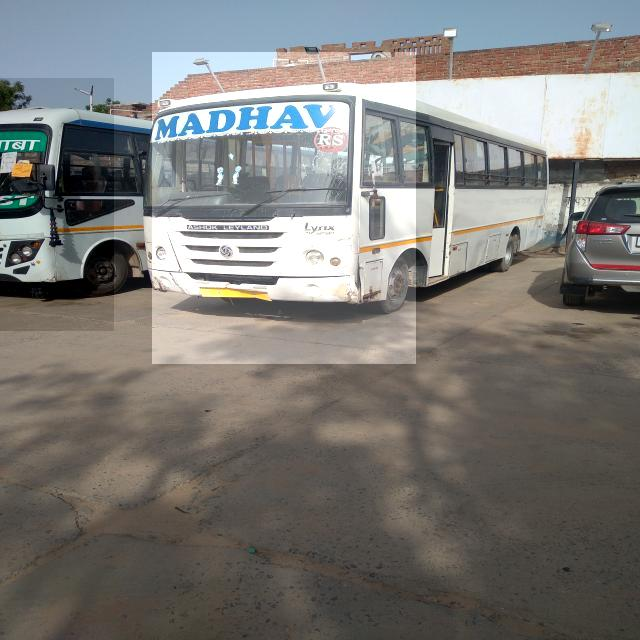Bus: (152, 52, 416, 364), (0, 78, 114, 331)
